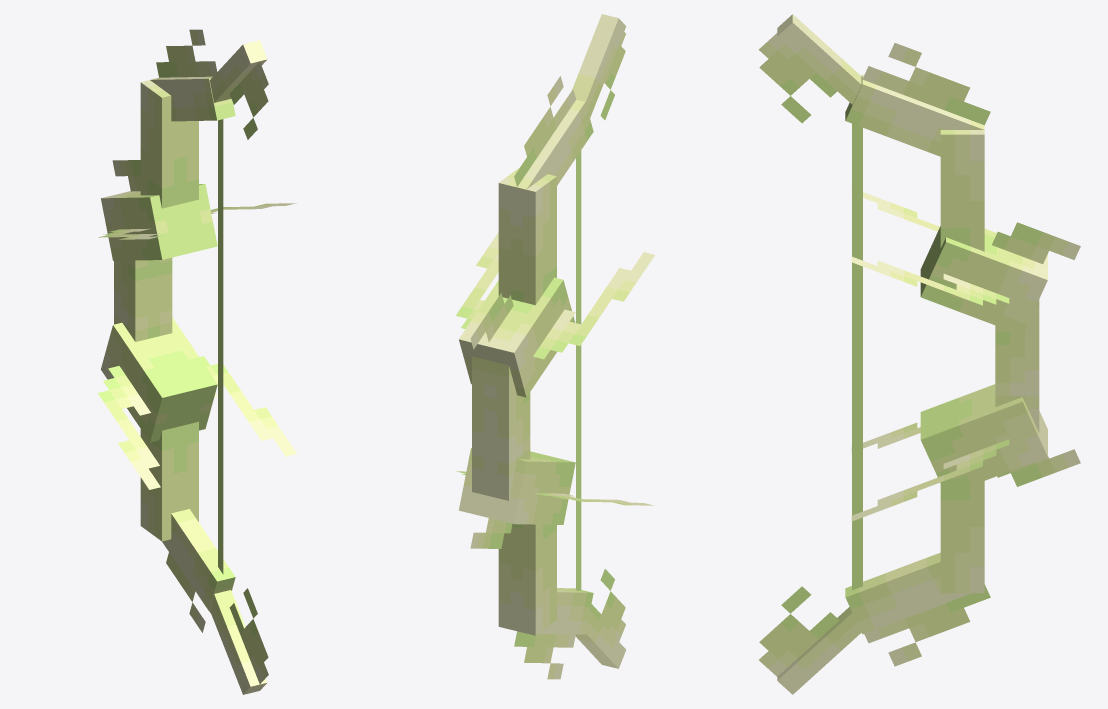
The model's file is archer_bow_spirit_1.gltf.
3 views of the same model, side by side, from view 1: azimuth 30°, elevation 25°; view 2: azimuth 150°, elevation 25°; view 3: azimuth 270°, elevation 25° (orthographic). The views are drawn at different scales.
Visible parts, largest first — view 1: cube (×17); view 2: cube (×18); view 3: cube (×20).
Part boxes in pixels (x1,y1,x2,y2): cube (×17): [98, 29, 296, 694]; cube (×18): [455, 14, 654, 679]; cube (×20): [758, 14, 1080, 694].
Bounding box in the file's own units: 1.22 × 3.15 × 1.54.
1 material, 1 textured.
